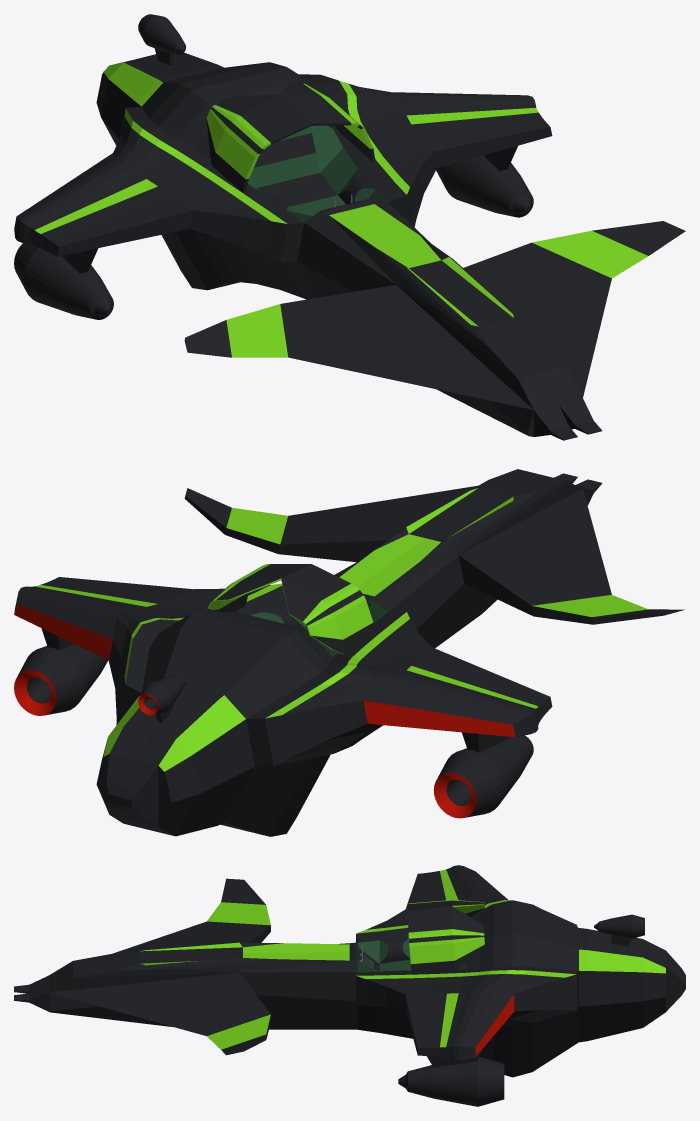
The model's file is ship_1_VR.fbx.
The picture shows the model from 3 angles, top to bottom: view 1: azimuth 30°, elevation 25°; view 2: azimuth 150°, elevation 25°; view 3: azimuth 270°, elevation 25°; orthographic projection. The views are drawn at different scales.
Visible parts, largest first — view 1: ship_1_VR; view 2: ship_1_VR; view 3: ship_1_VR.
Boxes of the visible parts, bbox=[...] form: ship_1_VR: bbox=[14, 14, 685, 440]; ship_1_VR: bbox=[14, 469, 684, 836]; ship_1_VR: bbox=[14, 865, 685, 1106].
Size of the model in its own units: 1059 by 416 by 1635.
